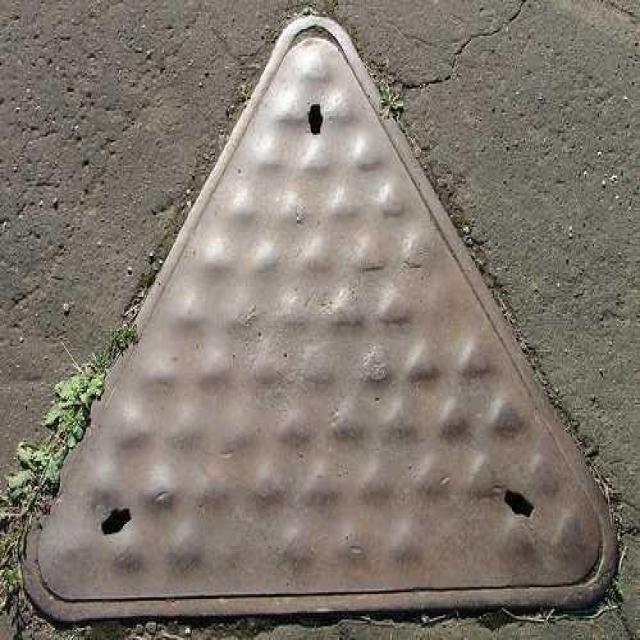manhole: (23, 15, 621, 628)
